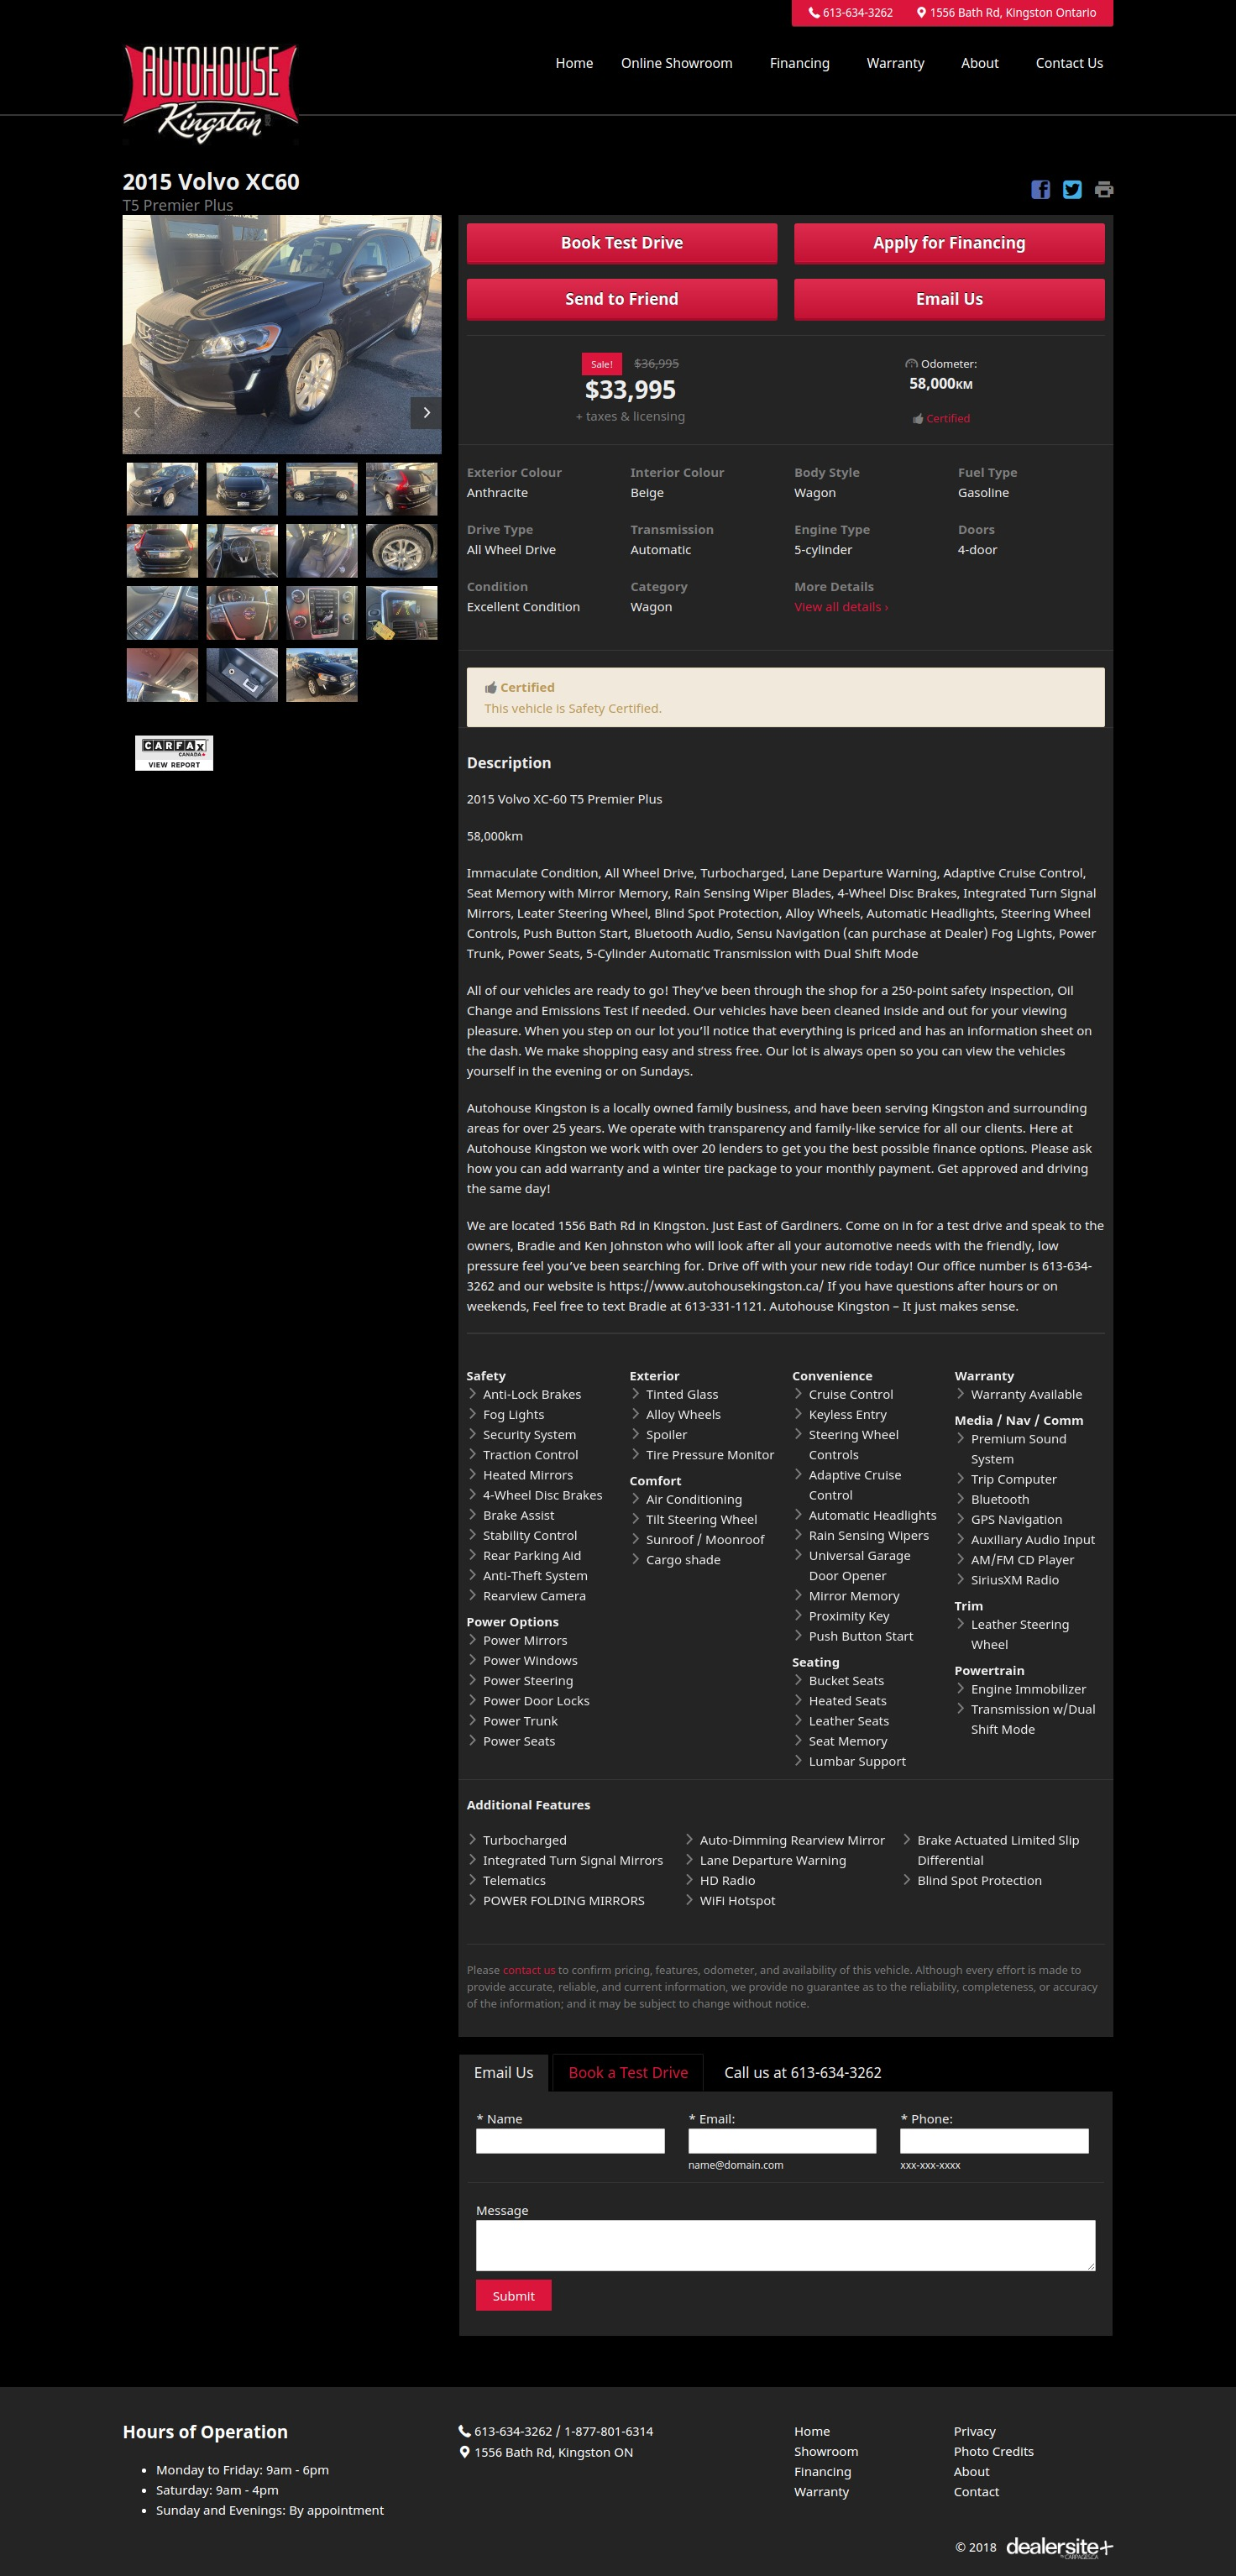car: (411, 398, 444, 432)
